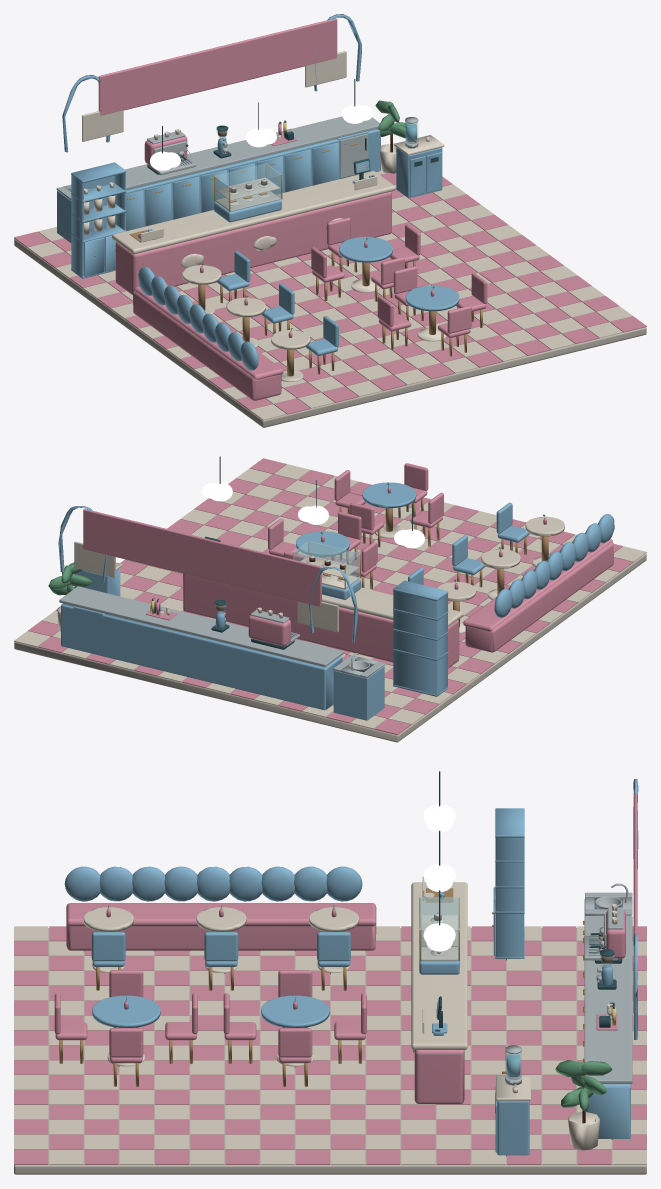
File: cafe_B.glb
3 views of the same model, one above another, from view 1: azimuth 30°, elevation 25°; view 2: azimuth 150°, elevation 25°; view 3: azimuth 270°, elevation 25° (orthographic). The views are drawn at different scales.
Visible parts, largest first — view 1: floor, svc:24:Service_Counter_Top, svc:28:Prep_Handle, svc:23:Menu_Frame, room:22:Cloud_Banquette_Back, svc:19:FIXTURE_Stock.001, svc:15:FIXTURE_Pastry_Display.001, svc:20:FIXTURE_Water_Recycling.001, room:33:Table_Top, room:32:Table_Top, svc:12:FIXTURE_Espresso.001, svc:14:FIXTURE_Milk_Fridge.001 (+15 smaller); view 2: floor, svc:28:Prep_Handle, svc:23:Menu_Frame, svc:24:Service_Counter_Top, room:22:Cloud_Banquette_Back, svc:19:FIXTURE_Stock.001, svc:18:FIXTURE_Staff_Sink.001, svc:15:FIXTURE_Pastry_Display.001, room:32:Table_Top, svc:12:FIXTURE_Espresso.001, room:33:Table_Top, room:30:Table_Top (+15 smaller); view 3: floor, room:22:Cloud_Banquette_Back, svc:28:Prep_Handle, svc:24:Service_Counter_Top, svc:19:FIXTURE_Stock.001, svc:20:FIXTURE_Water_Recycling.001, svc:15:FIXTURE_Pastry_Display.001, room:33:Table_Top, room:32:Table_Top, svc:12:FIXTURE_Espresso.001, room:2:FIXTURE_Dining_Chair.007, room:6:FIXTURE_Dining_Chair.011 (+18 smaller).
Boxes of the visible parts, <box> form: floor: <box>14,168,646,427</box>; svc:24:Service_Counter_Top: <box>112,171,395,295</box>; svc:28:Prep_Handle: <box>125,100,408,230</box>; svc:23:Menu_Frame: <box>62,14,361,152</box>; room:22:Cloud_Banquette_Back: <box>133,267,283,400</box>; svc:19:FIXTURE_Stock.001: <box>71,162,126,278</box>; svc:15:FIXTURE_Pastry_Display.001: <box>214,163,282,222</box>; svc:20:FIXTURE_Water_Recycling.001: <box>394,117,444,198</box>; room:33:Table_Top: <box>339,237,392,292</box>; room:32:Table_Top: <box>405,285,459,341</box>; svc:12:FIXTURE_Espresso.001: <box>144,129,196,175</box>; svc:14:FIXTURE_Milk_Fridge.001: <box>336,131,368,178</box>; floor: <box>14,458,646,742</box>; svc:28:Prep_Handle: <box>48,562,343,710</box>; svc:23:Menu_Frame: <box>58,506,358,642</box>; svc:24:Service_Counter_Top: <box>183,573,462,668</box>; room:22:Cloud_Banquette_Back: <box>463,514,614,652</box>; svc:19:FIXTURE_Stock.001: <box>393,580,448,696</box>; svc:18:FIXTURE_Staff_Sink.001: <box>333,652,385,720</box>; svc:15:FIXTURE_Pastry_Display.001: <box>292,540,360,599</box>; room:32:Table_Top: <box>362,482,416,538</box>; svc:12:FIXTURE_Espresso.001: <box>248,607,299,649</box>; room:33:Table_Top: <box>296,531,349,558</box>; room:30:Table_Top: <box>481,547,520,599</box>; floor: <box>14,926,646,1174</box>; room:22:Cloud_Banquette_Back: <box>64,866,376,951</box>; svc:28:Prep_Handle: <box>555,916,632,1150</box>; svc:24:Service_Counter_Top: <box>411,876,467,1104</box>; svc:19:FIXTURE_Stock.001: <box>492,808,524,960</box>; svc:20:FIXTURE_Water_Recycling.001: <box>495,1045,530,1156</box>; svc:15:FIXTURE_Pastry_Display.001: <box>419,897,459,974</box>; room:33:Table_Top: <box>261,995,329,1067</box>; room:32:Table_Top: <box>92,995,160,1066</box>; svc:12:FIXTURE_Espresso.001: <box>584,904,625,963</box>; room:2:FIXTURE_Dining_Chair.007: <box>204,932,238,990</box>; room:6:FIXTURE_Dining_Chair.011: <box>109,1028,143,1086</box>.
Size of the model in its own units: 8 by 3.25 by 8.99.
